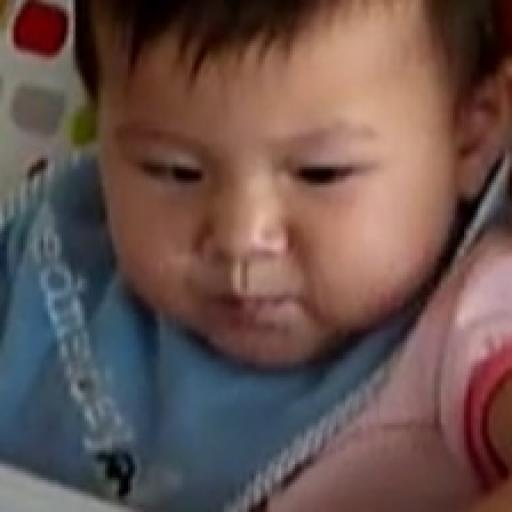Autism: (71, 0, 452, 400)
